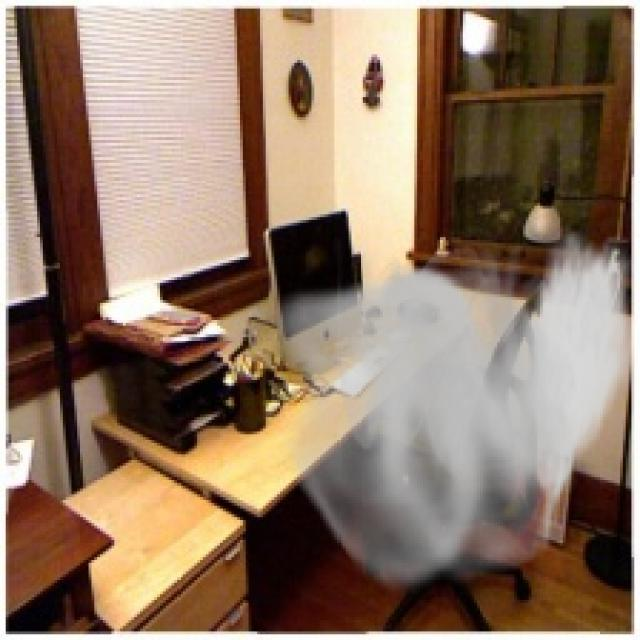Smoke: (274, 223, 637, 600)
